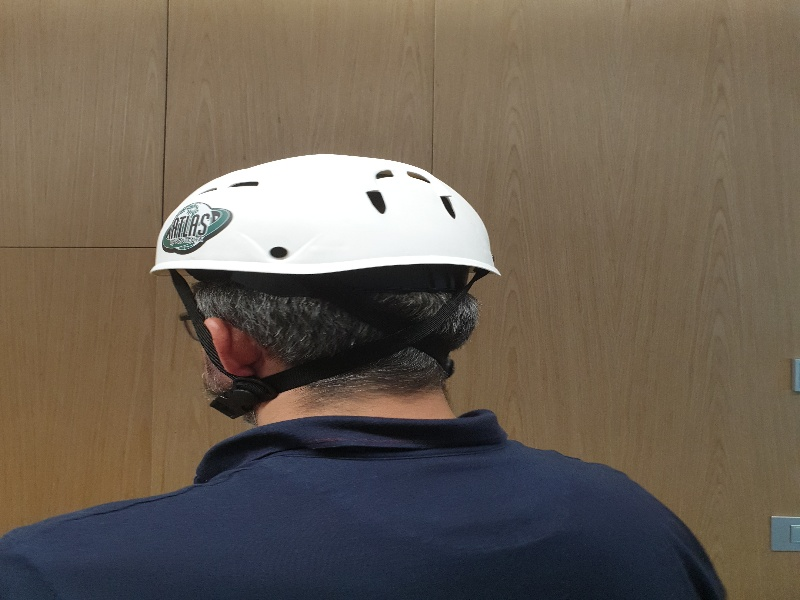Baret: (150, 152, 497, 275)
